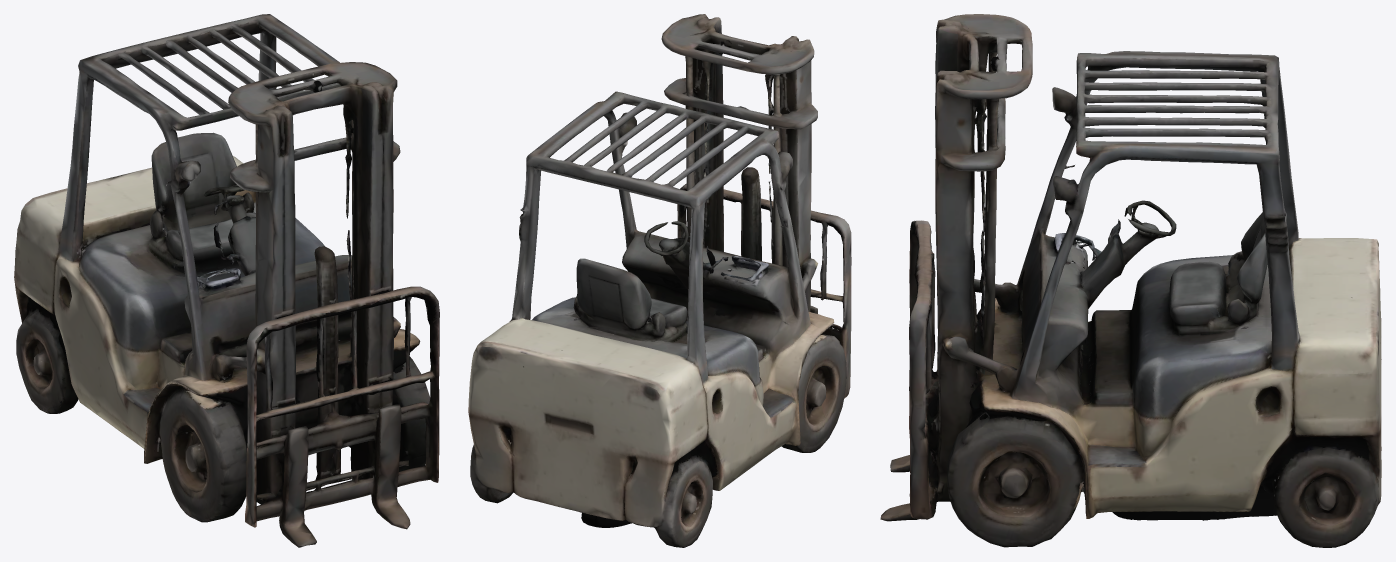
3 renders of one model, left to right at view 1: azimuth 30°, elevation 25°; view 2: azimuth 150°, elevation 25°; view 3: azimuth 270°, elevation 25°, orthographic. The views are drawn at different scales.
Visible parts, largest first — view 1: Mesh_0; view 2: Mesh_0; view 3: Mesh_0.
Part boxes in pixels (bbox=[...]): Mesh_0: bbox=[14, 14, 439, 547]; Mesh_0: bbox=[468, 14, 851, 547]; Mesh_0: bbox=[880, 14, 1381, 547].
Bounding box in the file's own units: 1.18 × 2.01 × 2.03.
Materials: 1 (1 with a texture image).
